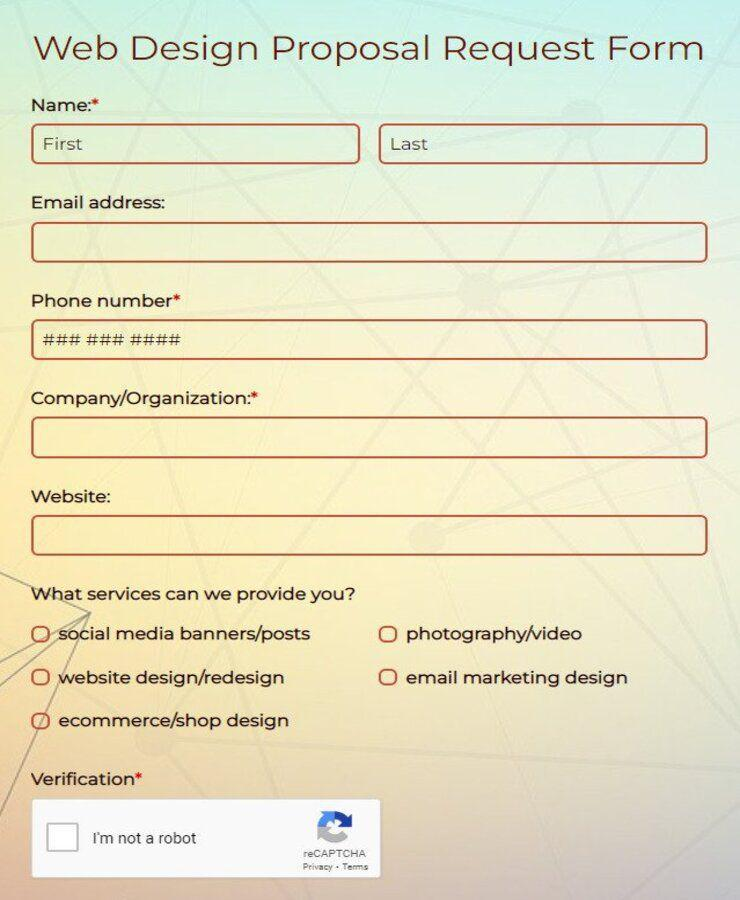checkbox: (48, 825, 82, 853), (30, 622, 53, 650), (29, 666, 54, 691), (29, 712, 55, 734), (377, 625, 400, 647), (377, 668, 400, 689)
input: (34, 322, 709, 364), (34, 418, 712, 457), (32, 224, 712, 262), (36, 519, 705, 556), (379, 126, 708, 168), (36, 129, 358, 167)
label: (405, 662, 636, 696), (58, 620, 314, 650), (60, 668, 290, 697), (28, 384, 261, 412), (55, 709, 292, 734), (408, 622, 588, 651), (25, 189, 171, 217), (25, 765, 153, 792), (32, 291, 182, 312), (93, 829, 206, 854), (29, 485, 113, 509), (29, 91, 102, 117)
